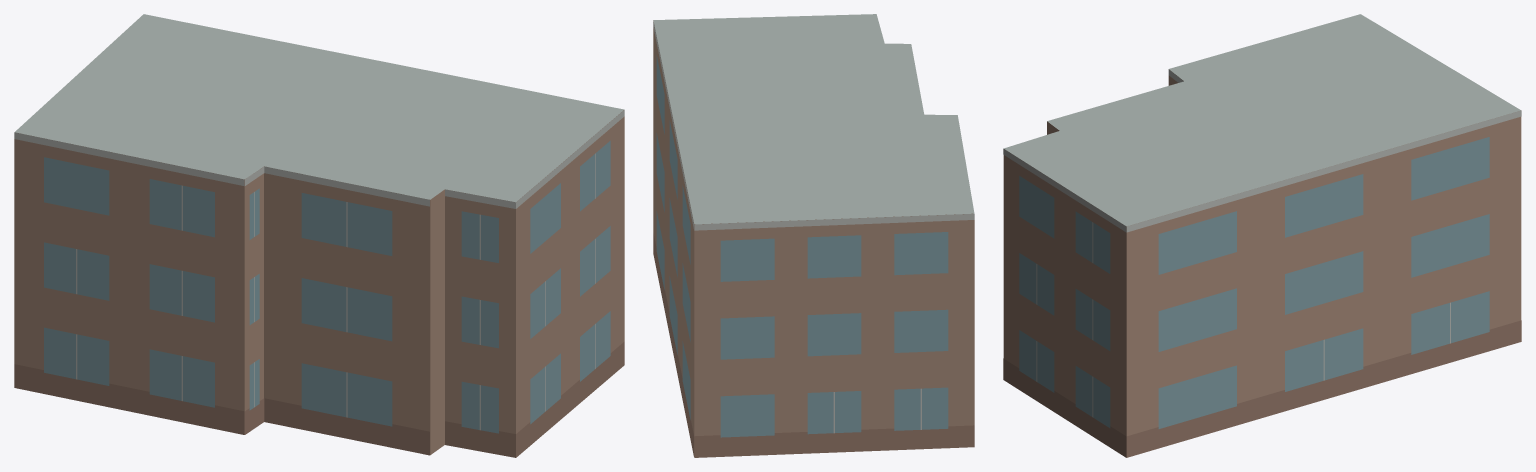
File: survey-upis-33021846.glb
3 renders of one model, left to right at view 1: azimuth 30°, elevation 25°; view 2: azimuth 150°, elevation 25°; view 3: azimuth 270°, elevation 25°, orthographic. The views are drawn at different scales.
Visible parts, largest first — view 1: survey-upis-33021846.tmp; view 2: survey-upis-33021846.tmp; view 3: survey-upis-33021846.tmp.
Boxes of the visible parts, x1=… form: survey-upis-33021846.tmp: x1=14, y1=14, x2=624, y2=457; survey-upis-33021846.tmp: x1=653, y1=14, x2=974, y2=457; survey-upis-33021846.tmp: x1=1003, y1=14, x2=1521, y2=457.
Bounding box in the file's own units: 18.02 × 9.15 × 18.56.
